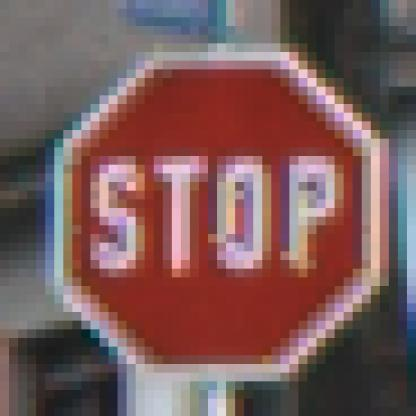Stop: (60, 58, 378, 374)
